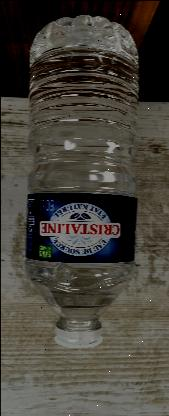Plastic Bottle: (23, 14, 138, 348)
